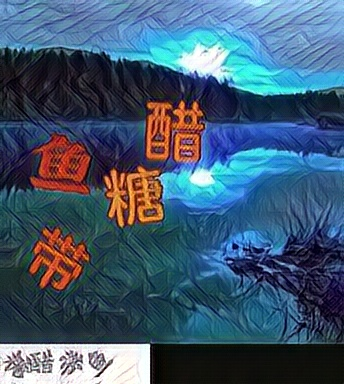B4D7: (143, 97, 205, 161)
B4F8: (28, 227, 90, 291)
CCC7: (102, 164, 164, 228)
D3E3: (29, 132, 91, 196)
